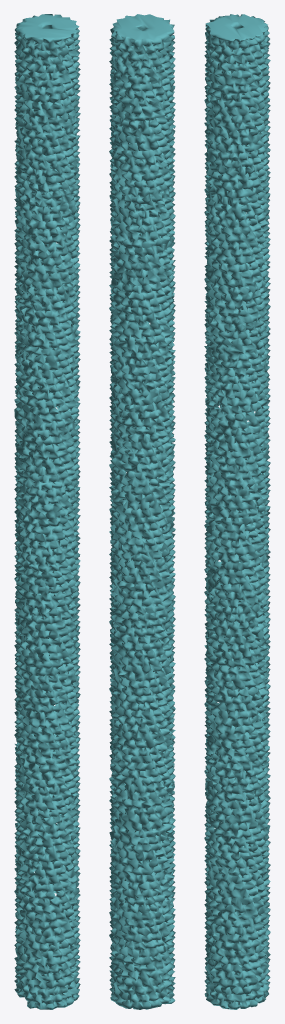
The model's file is pdb-2tmv-tmv.glb.
3 renders of one model, left to right at view 1: azimuth 30°, elevation 25°; view 2: azimuth 150°, elevation 25°; view 3: azimuth 330°, elevation 25°, orthographic.
Visible parts, largest first — view 1: Tobacco Mosaic Virus; view 2: Tobacco Mosaic Virus; view 3: Tobacco Mosaic Virus.
Boxes of the visible parts, x1,y1,x2,y2 form: Tobacco Mosaic Virus: (14, 14, 80, 1009); Tobacco Mosaic Virus: (109, 14, 175, 1009); Tobacco Mosaic Virus: (204, 14, 270, 1009).
Bounding box in the file's own units: 18.65 × 300 × 18.61.
